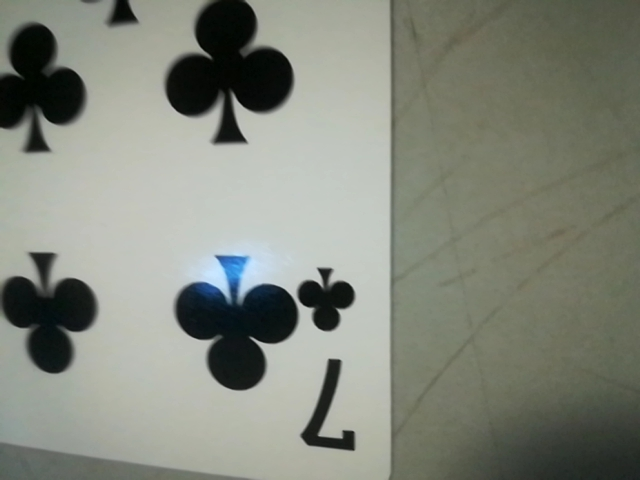mh 7: (284, 254, 384, 471)
